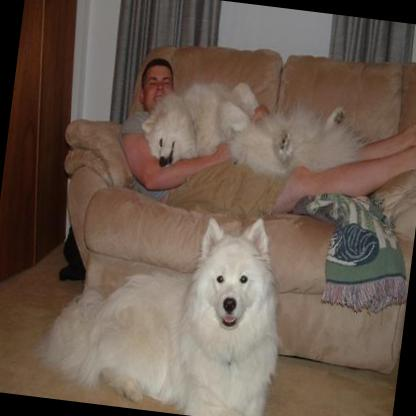Samoyed: (28, 191, 292, 416), (134, 68, 366, 191)
